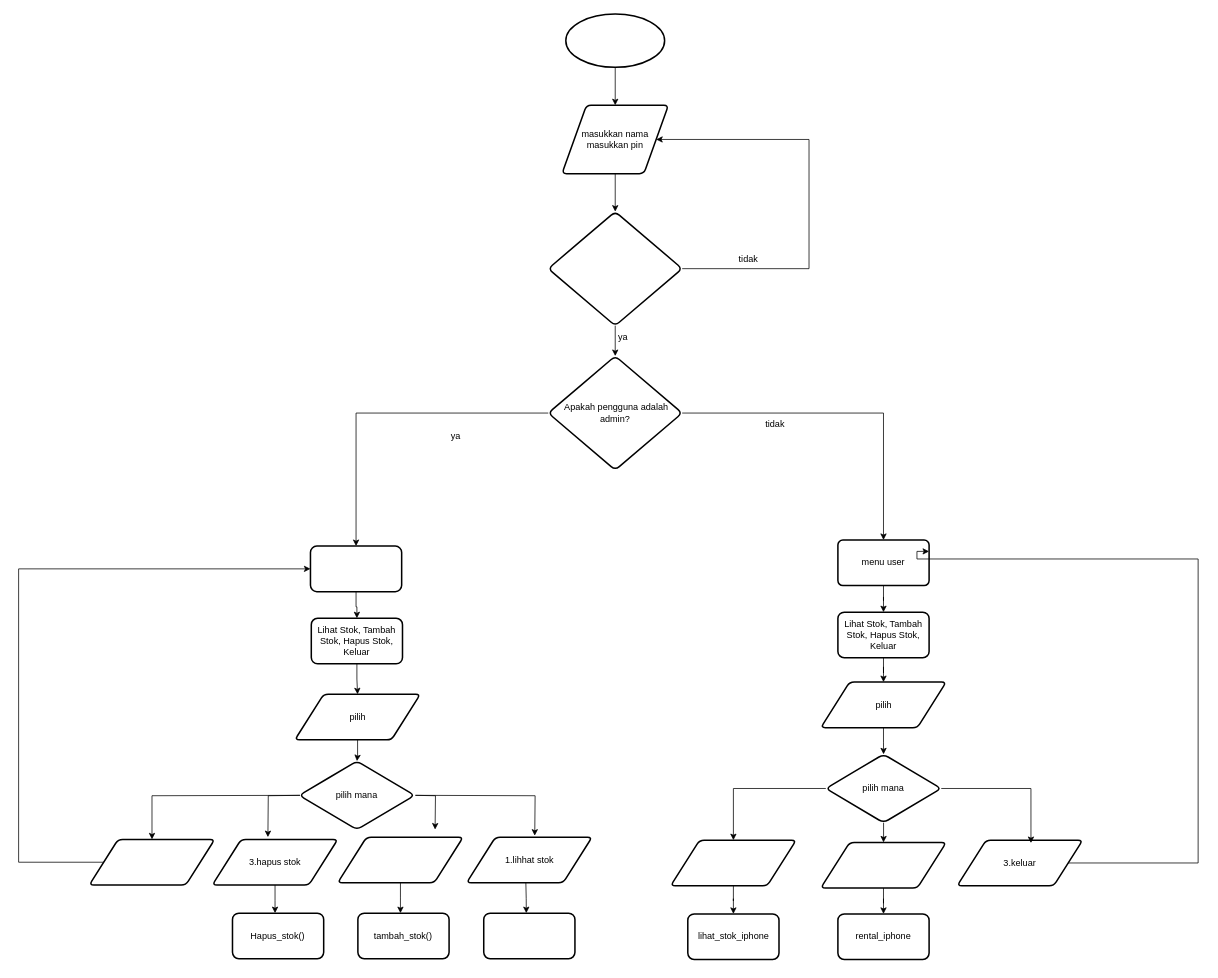
Some shapes in this 1218 by 978 pixel diagram are drawn without their labels. The centre of each missing label's shape, as x and y in pixels:
1.lihat_stok_iphone: (x=733, y=862)
2.rental_iphone: (x=883, y=864)
2.tambah stok: (x=400, y=859)
4.keluar: (x=151, y=861)
Jika nama dan PIN benar: (x=615, y=268)
lihat_stok(): (x=529, y=935)
menu admin: (x=355, y=568)
star: (x=615, y=40)
